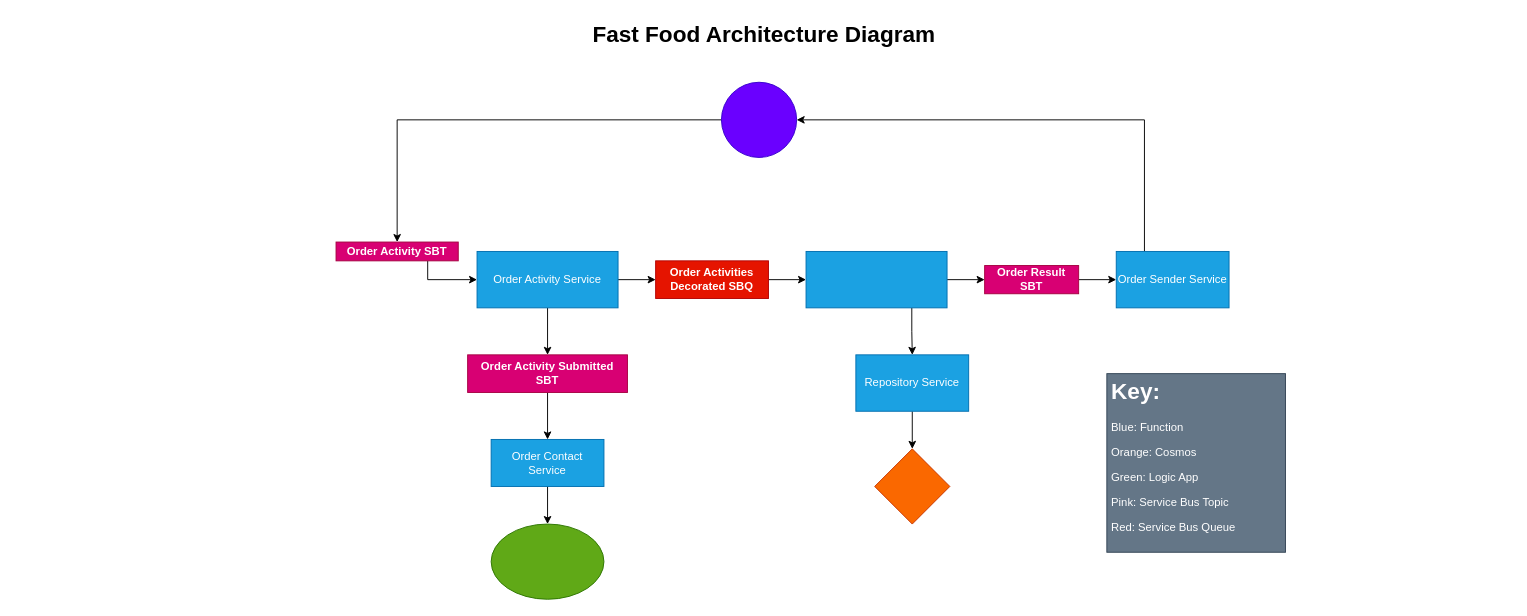
Some shapes in this 1527 by 616 pixel diagram are drawn without their labels. The shapes that lost their labels are listed below. From the top down, each one's centre as x and y in pixels, then its label:
pixel 759 119: FE
pixel 876 279: Order Result Service
pixel 912 486: CosmosDb
pixel 547 561: Email Handler
